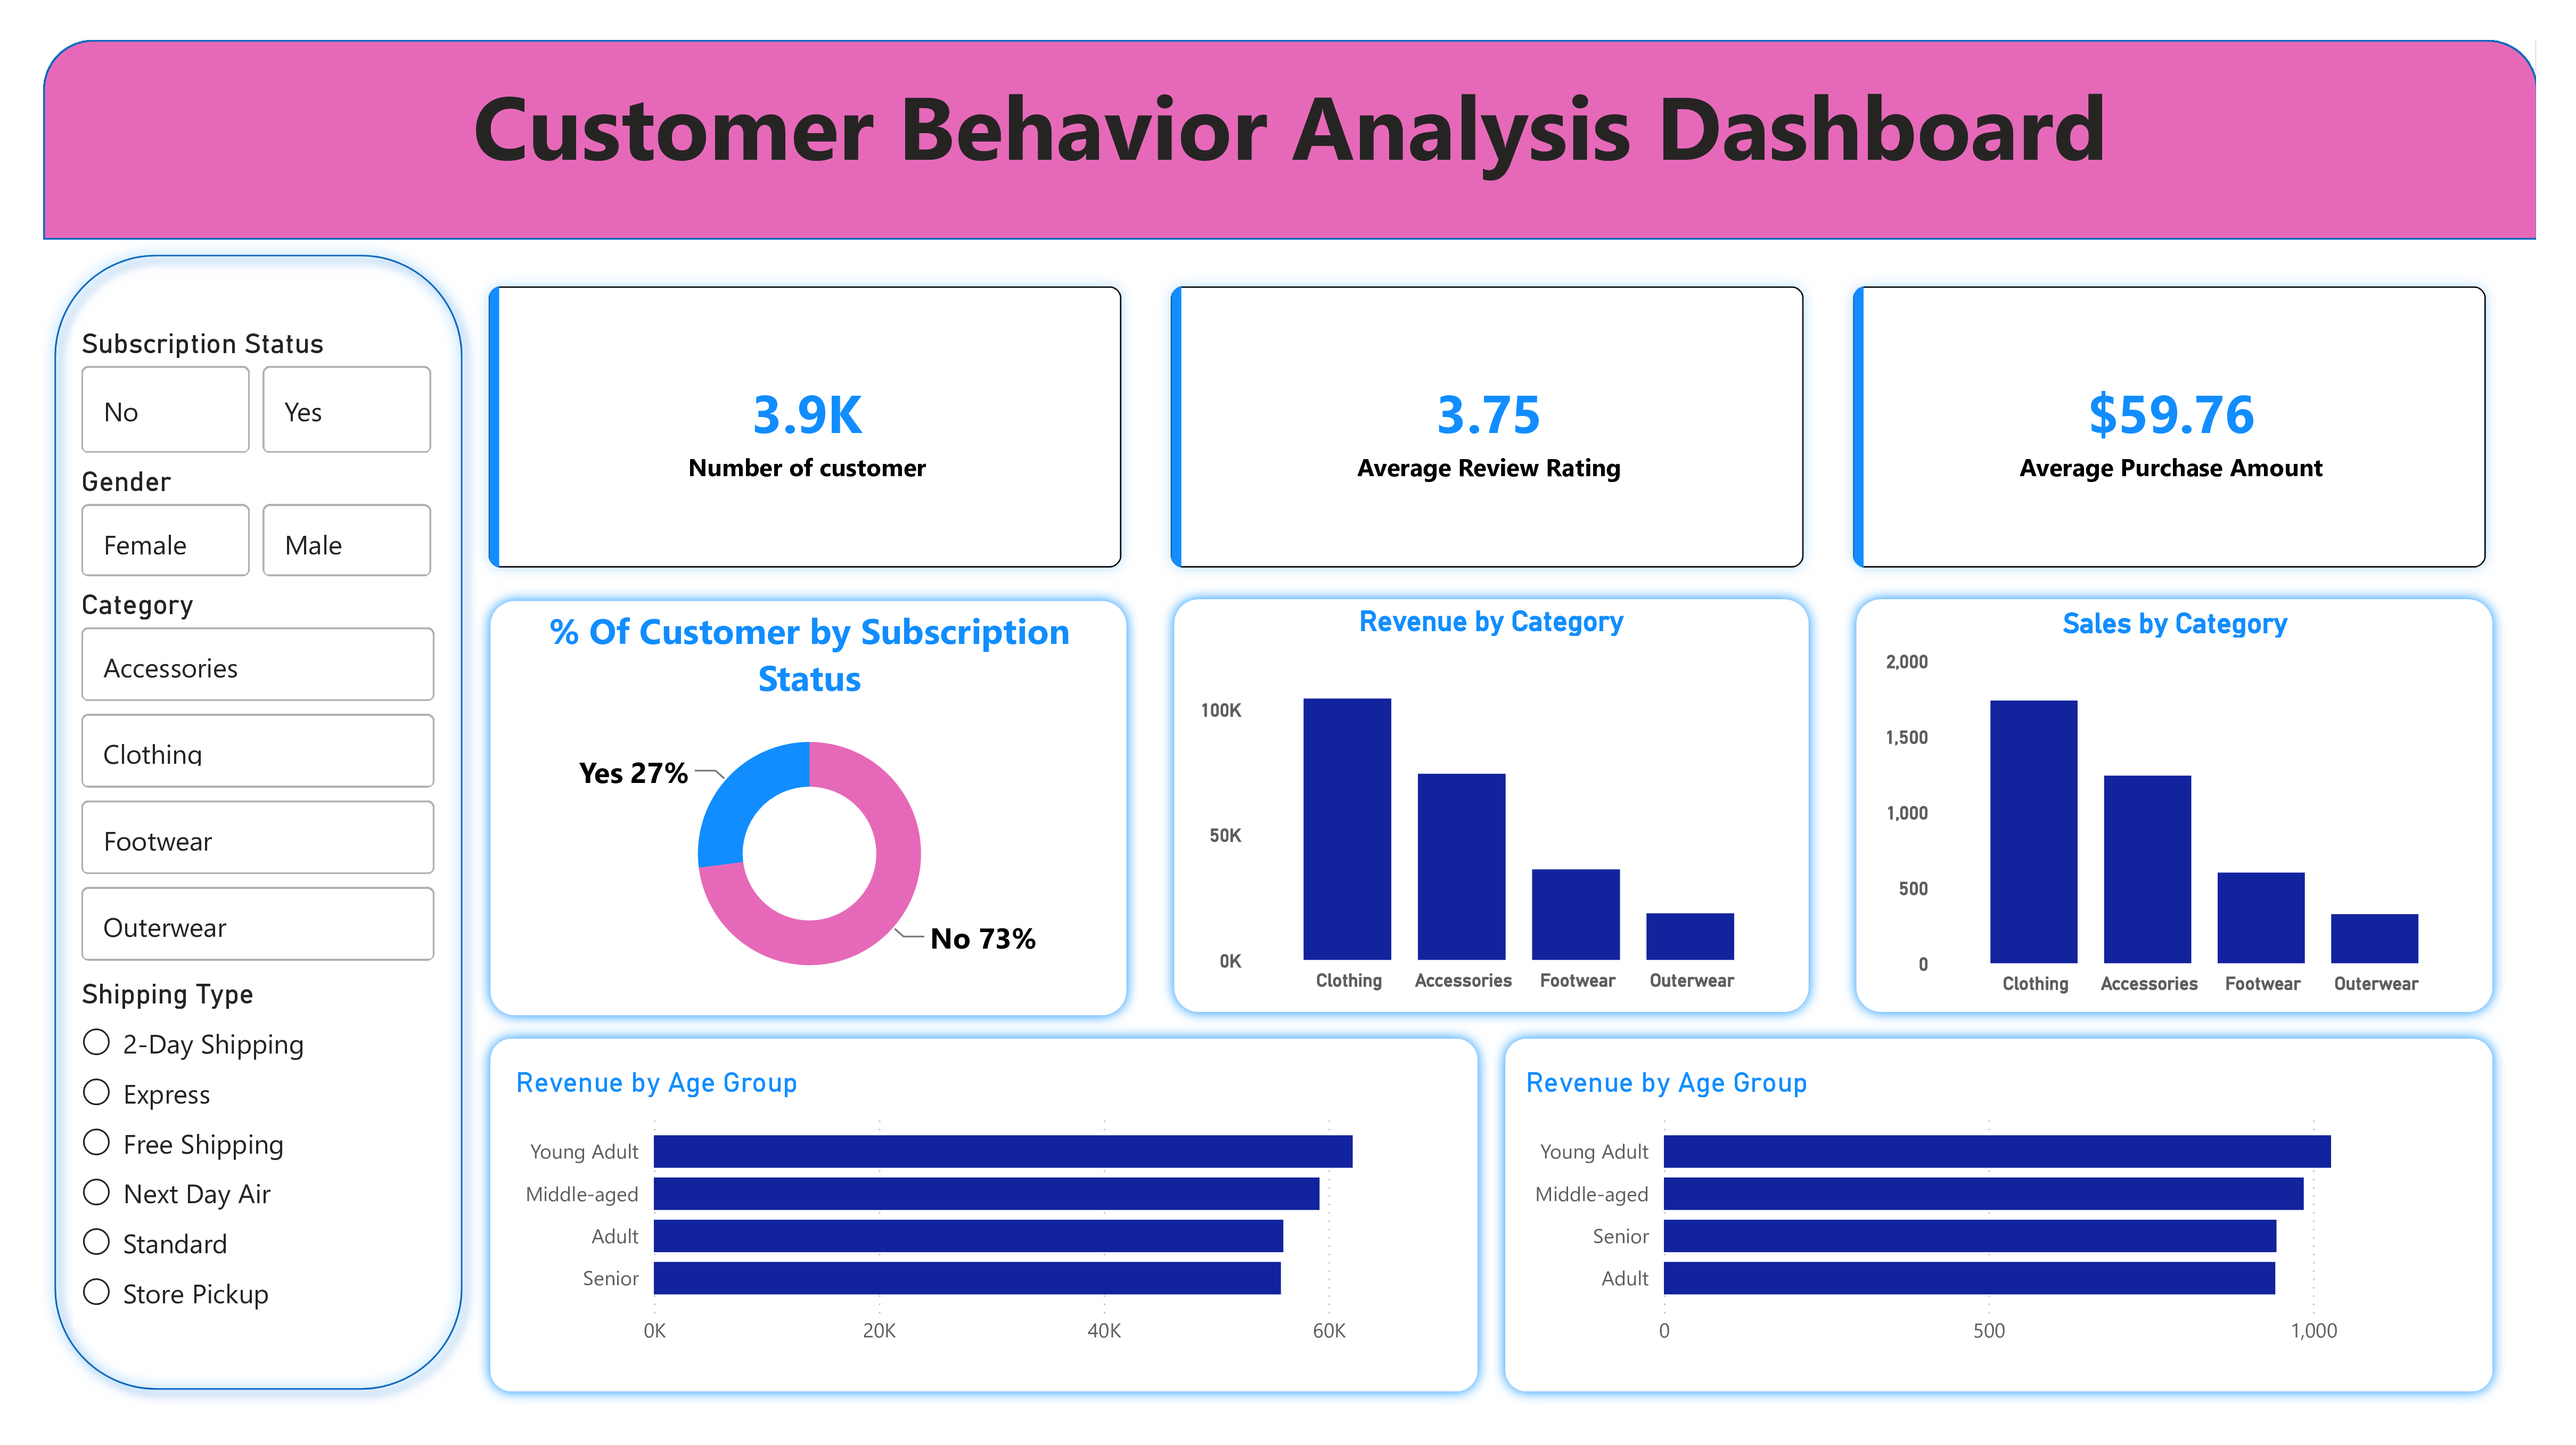

The page's visual inventory and layout, read from the dashboard file:
{"tool":"powerbi","page":{"name":"Page 1","canvas":[1500,820],"ordinal":0},"visuals":[{"type":"cardVisual","fields":{"Data":["mydatabase customer_data.Number of customer","mydatabase customer_data.Average Review Rating","mydatabase customer_data.Average Purchase Amount"]},"box":[242.4,120.3,1258.2,225.7],"z":0},{"type":"shape","box":[1.9,0,1498.8,120.3],"z":1000},{"type":"textbox","box":[1.9,9.3,1498.8,101.8],"z":2000},{"type":"shape","box":[262.8,329.4,397.8,264.6],"z":3000},{"type":"donutChart","title":"% Of Customer by Subscription Status","fields":{"Category":["mydatabase customer_data.subscription_status"],"Y":["CountNonNull(mydatabase customer_data.customer_id)"]},"box":[281.3,340.5,362.7,240.5],"z":4000},{"type":"shape","box":[673.5,327.5,397.8,264.6],"z":5000},{"type":"clusteredColumnChart","title":"Revenue by Category","fields":{"Y":["Sum(mydatabase customer_data.purchase_amount)"],"Category":["mydatabase customer_data.category"]},"box":[692,338.6,360.8,240.5],"z":6000},{"type":"shape","box":[1084.3,327.5,397.8,264.6],"z":7000},{"type":"clusteredColumnChart","title":"Sales by Category","fields":{"Category":["mydatabase customer_data.category"],"Y":["CountNonNull(mydatabase customer_data.customer_id)"]},"box":[1102.8,340.5,360.8,240.5],"z":8000},{"type":"shape","box":[0,120.3,262.8,699.4],"z":9000},{"type":"advancedSlicerVisual","title":"Subscription Status","fields":{"Values":["mydatabase customer_data.subscription_status"]},"box":[20.4,172.1,220.2,83.3],"z":10000},{"type":"advancedSlicerVisual","title":"Gender","fields":{"Values":["mydatabase customer_data.gender"]},"box":[20.4,255.3,220.2,74],"z":11000},{"type":"advancedSlicerVisual","title":"Category","fields":{"Values":["mydatabase customer_data.category"]},"box":[20.4,329.4,222,233.1],"z":12000},{"type":"listSlicer","title":"Shipping Type","fields":{"Values":["mydatabase customer_data.shipping_type"]},"box":[20.4,562.5,220.2,210.9],"z":13000},{"type":"shape","box":[262.8,592.1,608.8,227.6],"z":13001},{"type":"shape","box":[873.4,592.1,608.8,227.6],"z":13002},{"type":"clusteredBarChart","title":"Revenue by Age Group","fields":{"Y":["Sum(mydatabase customer_data.purchase_amount)"],"Category":["mydatabase customer_data.age_group"]},"box":[281.3,616.2,575.5,177.6],"z":13003},{"type":"clusteredBarChart","title":"Revenue by Age Group","fields":{"Y":["CountNonNull(mydatabase customer_data.customer_id)"],"Category":["mydatabase customer_data.age_group"]},"box":[888.2,616.2,575.5,177.6],"z":13004}]}

Visuals, with their boxes on the page's 1500x820 design canvas (x1, y1, x2, y2). These are canvas units, not pixel positions in the 2576x1445 screenshot, which may show the page scaled, cropped or inside an application window:
cardVisual - mydatabase customer_data.Number of customer x mydatabase customer_data.Average Review Rating: 242,120,1501,346
shape: 2,0,1501,120
textbox: 2,9,1501,111
shape: 263,329,661,594
"% Of Customer by Subscription Status" donutChart: 281,340,644,581
shape: 674,328,1071,592
"Revenue by Category" clusteredColumnChart: 692,339,1053,579
shape: 1084,328,1482,592
"Sales by Category" clusteredColumnChart: 1103,340,1464,581
shape: 0,120,263,820
"Subscription Status" advancedSlicerVisual: 20,172,241,255
"Gender" advancedSlicerVisual: 20,255,241,329
"Category" advancedSlicerVisual: 20,329,242,562
"Shipping Type" listSlicer: 20,562,241,773
shape: 263,592,872,820
shape: 873,592,1482,820
"Revenue by Age Group" clusteredBarChart: 281,616,857,794
"Revenue by Age Group" clusteredBarChart: 888,616,1464,794
